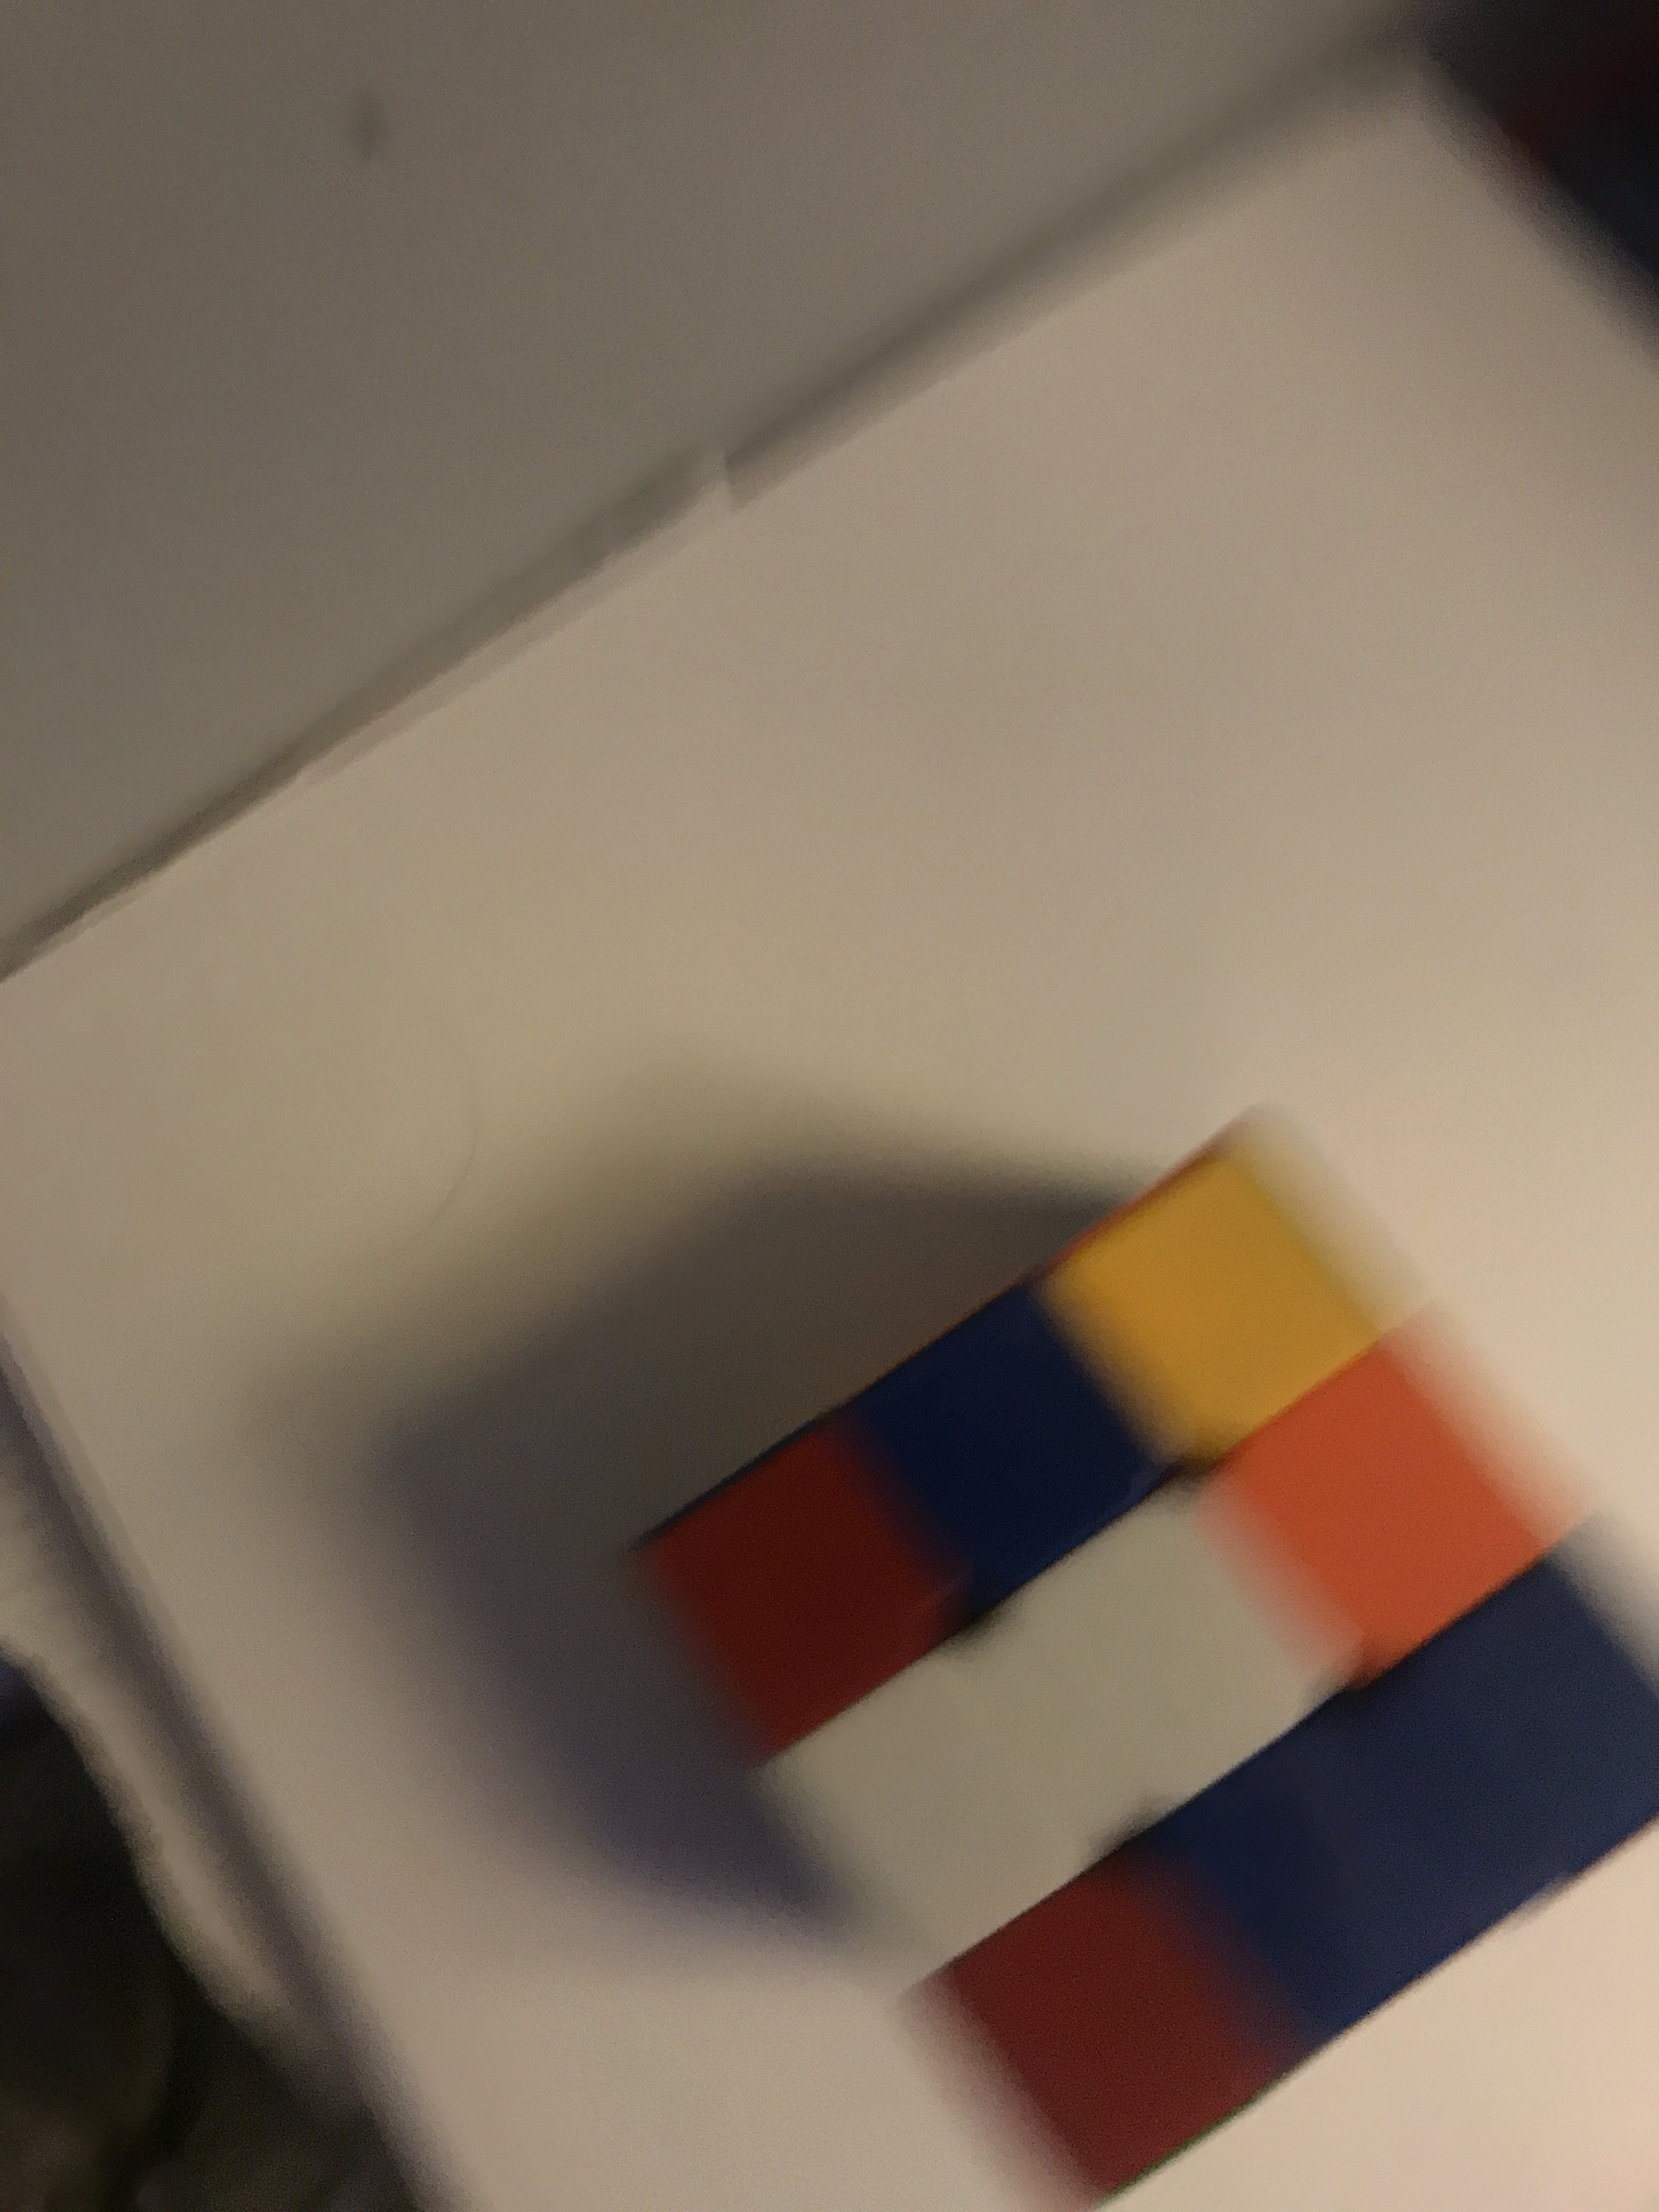rubiks: (608, 1120, 1659, 2202)
